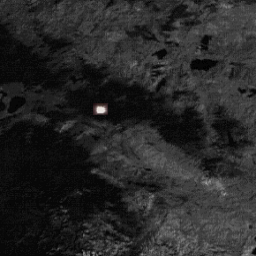Target: (95, 104, 107, 115)
